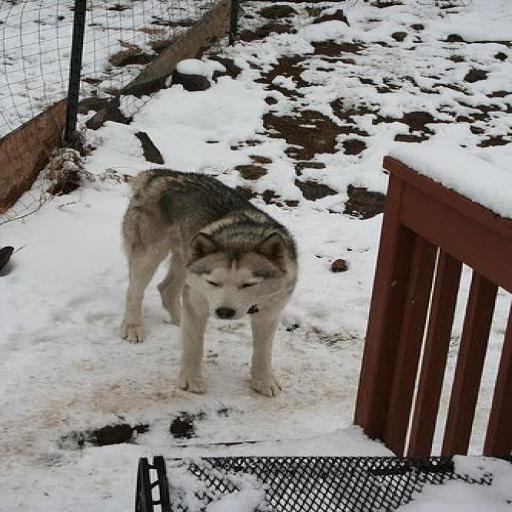dog_face: (179, 230, 284, 326)
